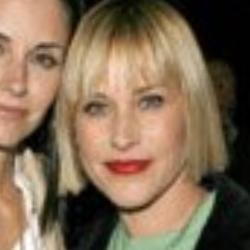face: (49, 1, 233, 212), (1, 1, 73, 160)
